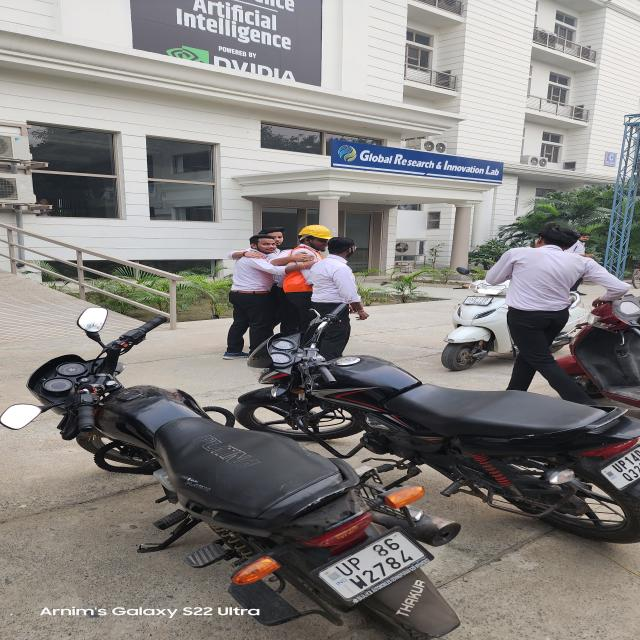safe: (275, 224, 336, 337)
unsafe: (476, 222, 620, 396), (226, 235, 278, 362), (311, 234, 360, 359)
